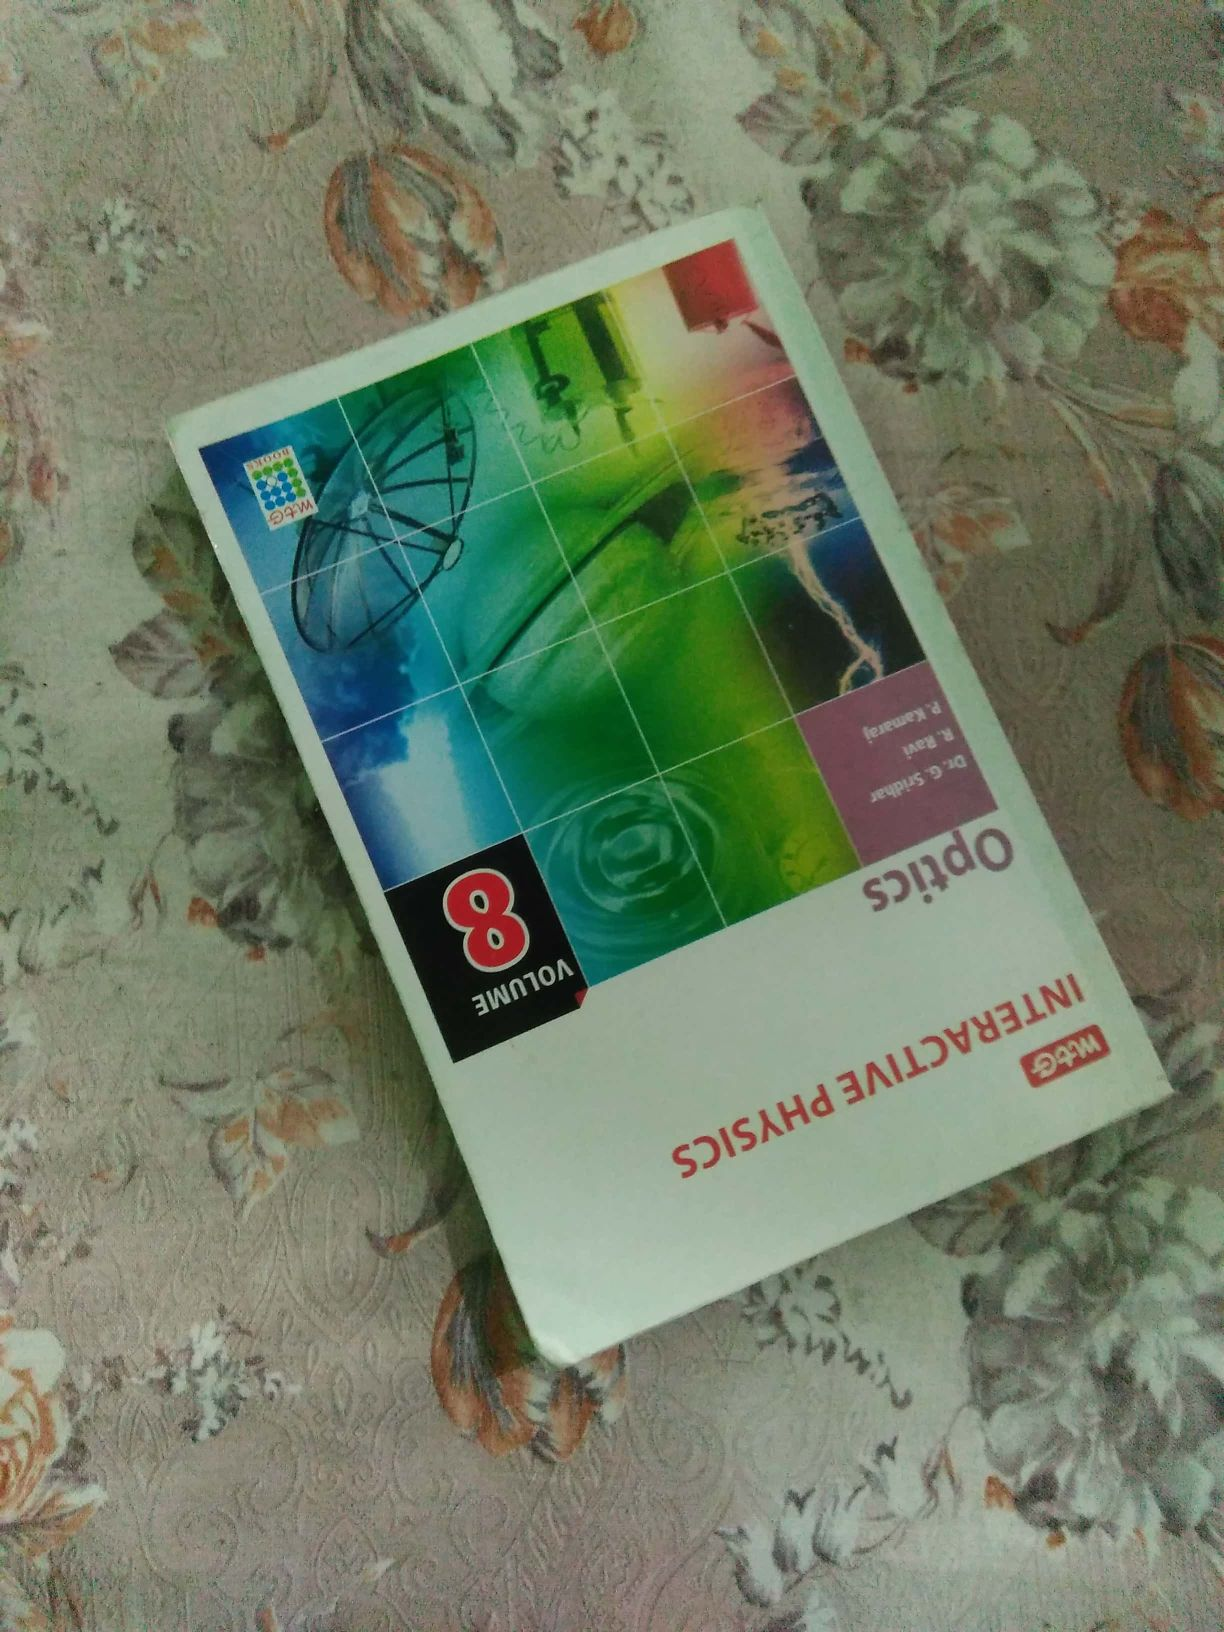optics: (166, 248, 1188, 1385)
